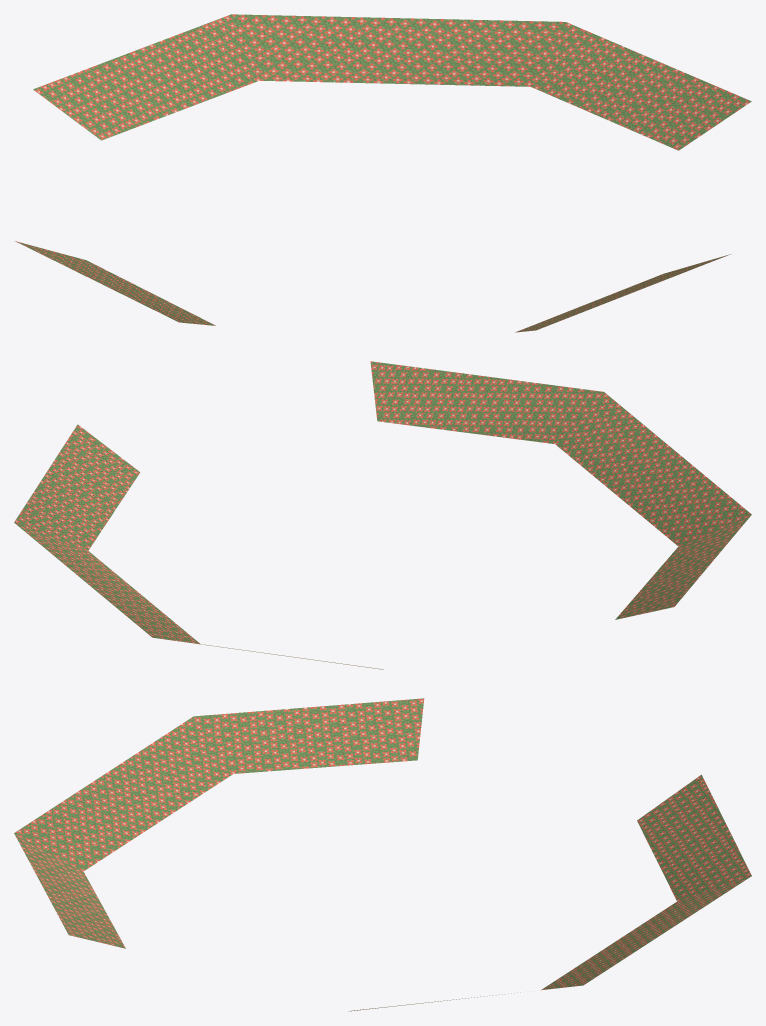
File: kd_stage_1364a3_13_7.glb
3 renders of one model, top to bottom at view 1: azimuth 30°, elevation 25°; view 2: azimuth 150°, elevation 25°; view 3: azimuth 270°, elevation 25°, orthographic. The views are drawn at different scales.
Parts seen in each view (by area): view 1: kd_stage_1364a3_13_7; view 2: kd_stage_1364a3_13_7; view 3: kd_stage_1364a3_13_7.
Part boxes in pixels (left/top/right/bottom): kd_stage_1364a3_13_7: left=15, top=14, right=751, bottom=332; kd_stage_1364a3_13_7: left=14, top=361, right=751, bottom=669; kd_stage_1364a3_13_7: left=14, top=698, right=751, bottom=1011.
Size of the model in its own units: 14.42 by 0.6666 by 14.35.
Materials: 1 (1 with a texture image).
